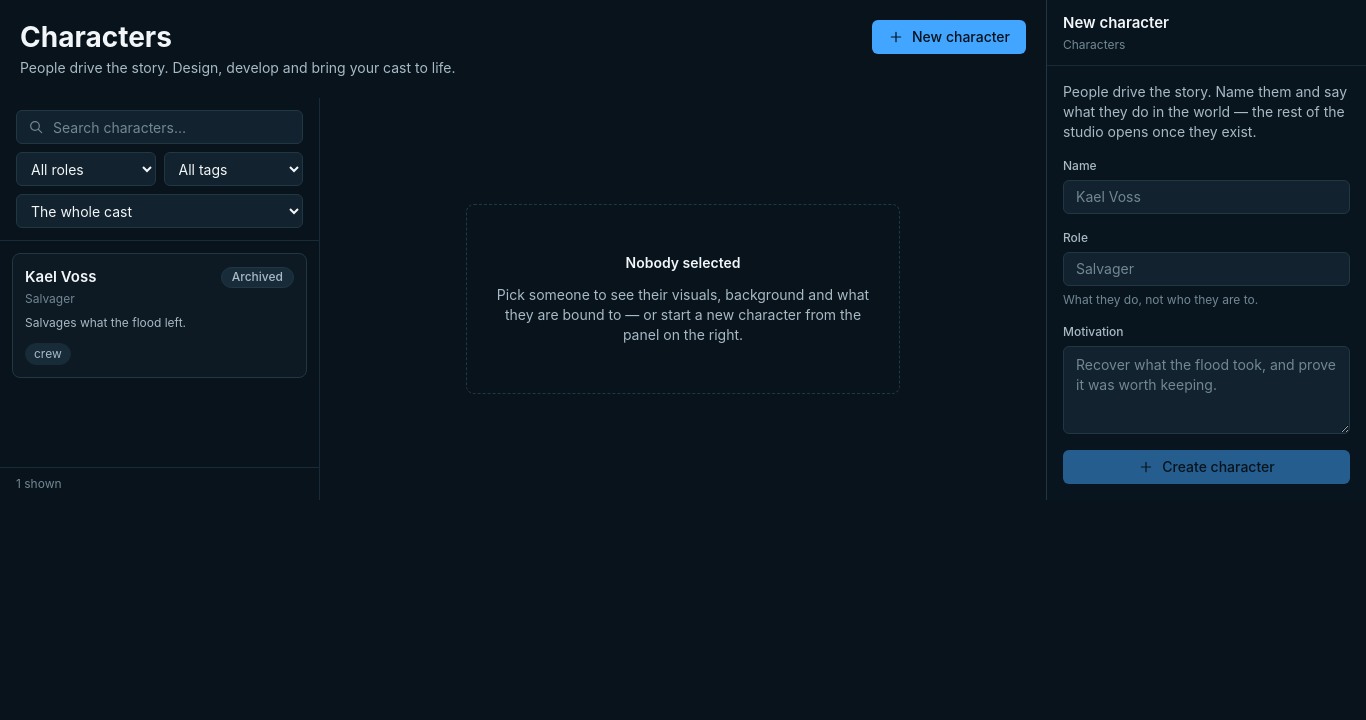
Test: Characters workspace › locks an archived character and offers to restore it instead
The width and height of the screenshot is (1366, 720).
Click the heading "Kael Voss": (61, 277) [25,266,96,288]
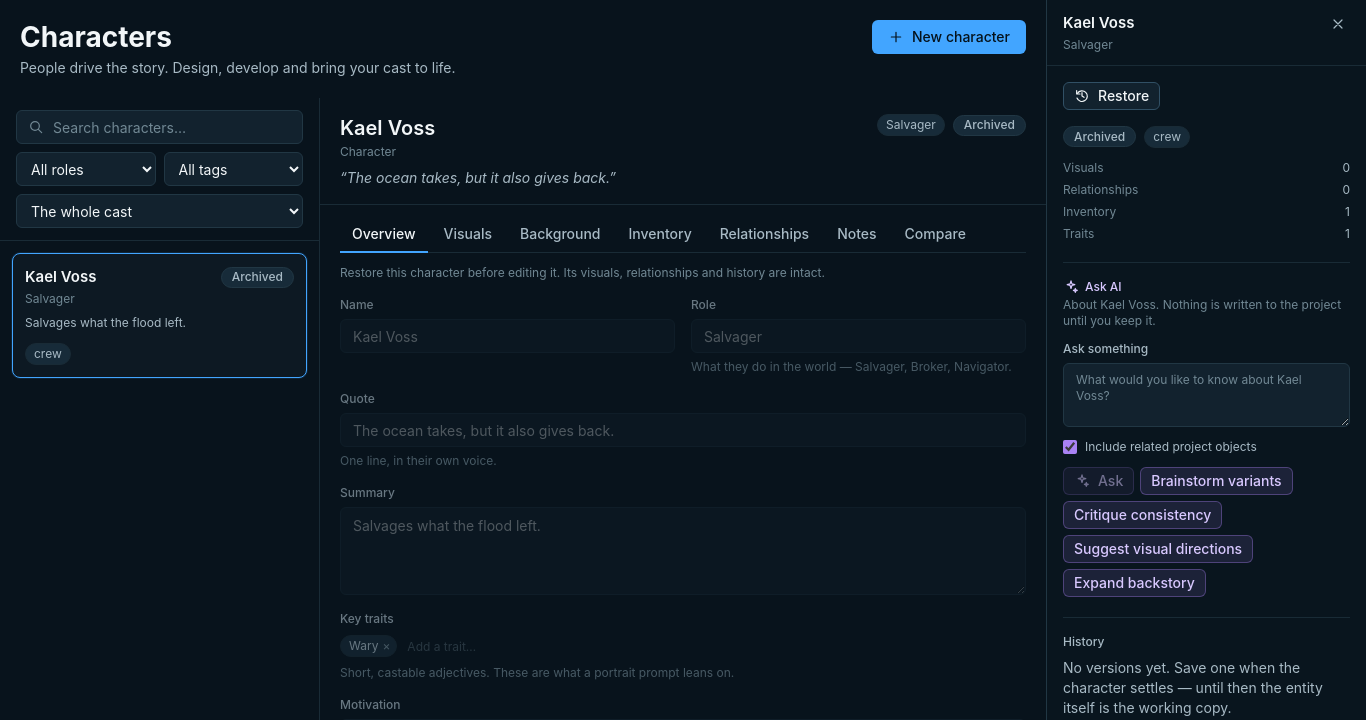
Check: the text "Restore this character before editing it. Its visuals, relationships and history are intact." is shown, box [340,265,825,280]
Check: the button "Restore" is shown, box [1063,82,1160,110]
